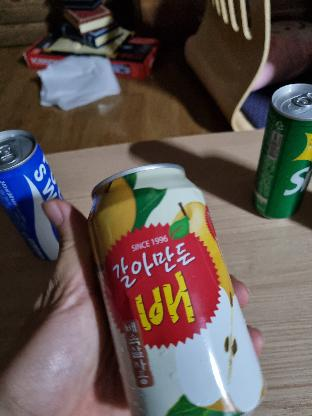Can: (87, 164, 266, 416), (252, 82, 312, 220)
